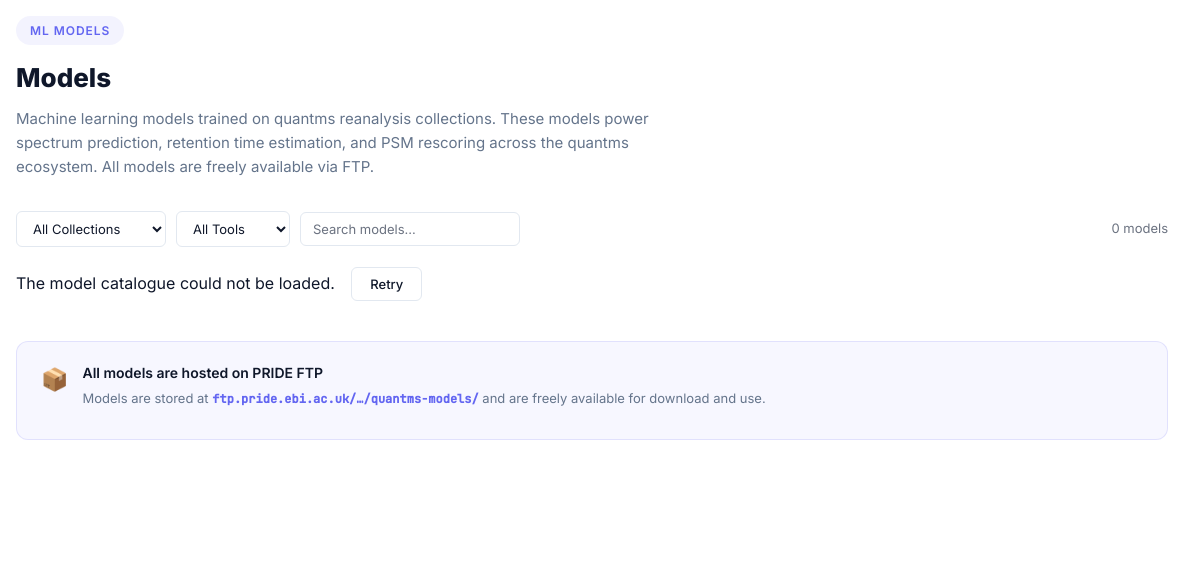
Scenario: Models view › shows a retryable error instead of "no models" when the catalogue fails to load
The width and height of the screenshot is (1185, 580).
Click the button "Retry".
click(387, 284)  # box [351, 267, 422, 301]
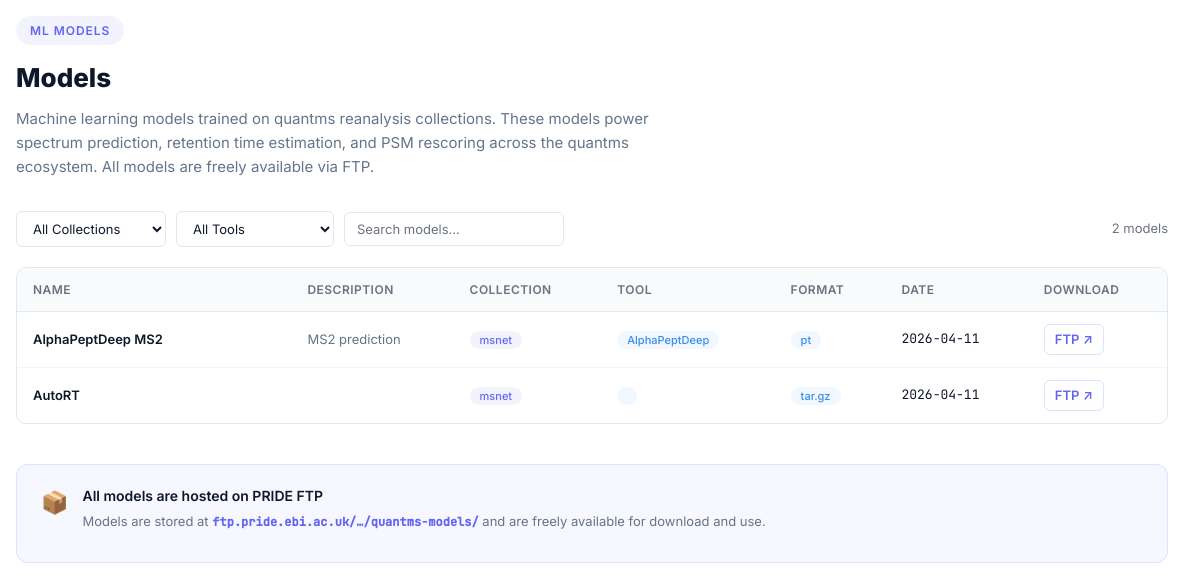
Check: the text "could not be loaded" is gone
